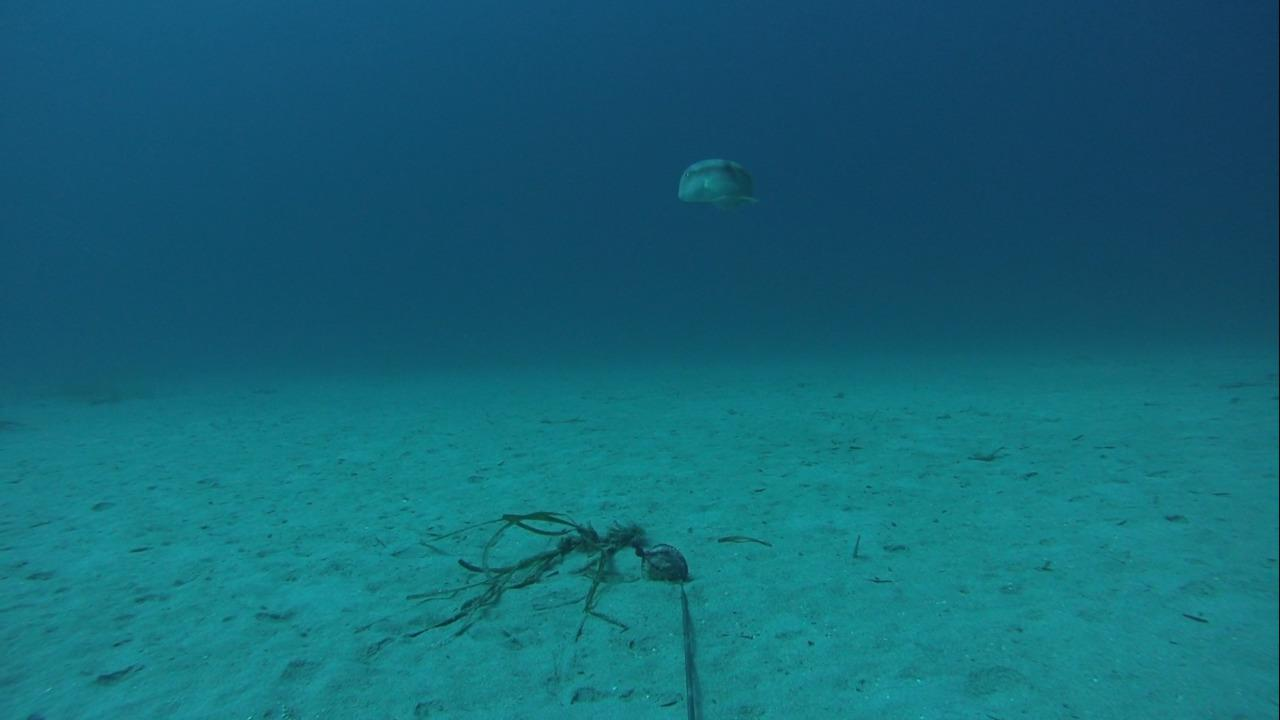raor: (671, 155, 763, 212)
